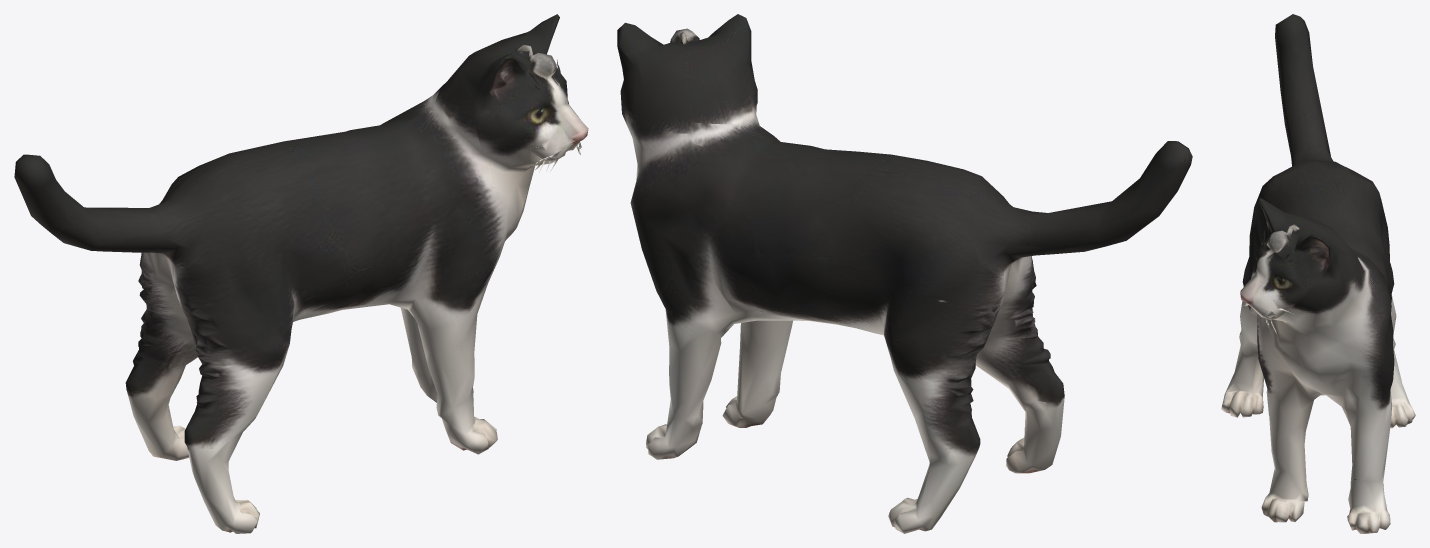
File: FELICETCAT-lo.glb
3 views of the same model, side by side, from view 1: azimuth 30°, elevation 25°; view 2: azimuth 150°, elevation 25°; view 3: azimuth 270°, elevation 25° (orthographic). The views are drawn at different scales.
Visible parts, largest first — view 1: tripo_node_b9653e60-48c0-4680-bd69-eebdf6450e08; view 2: tripo_node_b9653e60-48c0-4680-bd69-eebdf6450e08; view 3: tripo_node_b9653e60-48c0-4680-bd69-eebdf6450e08.
Part boxes in pixels (box(x1,y1,x2,y2)): tripo_node_b9653e60-48c0-4680-bd69-eebdf6450e08: box(14, 14, 588, 533); tripo_node_b9653e60-48c0-4680-bd69-eebdf6450e08: box(617, 14, 1192, 533); tripo_node_b9653e60-48c0-4680-bd69-eebdf6450e08: box(1221, 14, 1415, 533).
Bounding box in the file's own units: 1.48 × 0.9998 × 0.537.
Materials: 1 (1 with a texture image).
